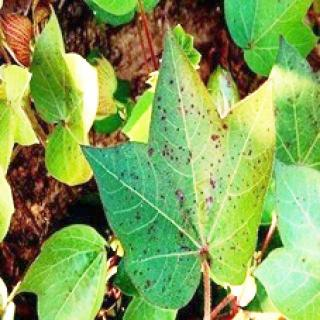blight: (88, 47, 278, 303)
